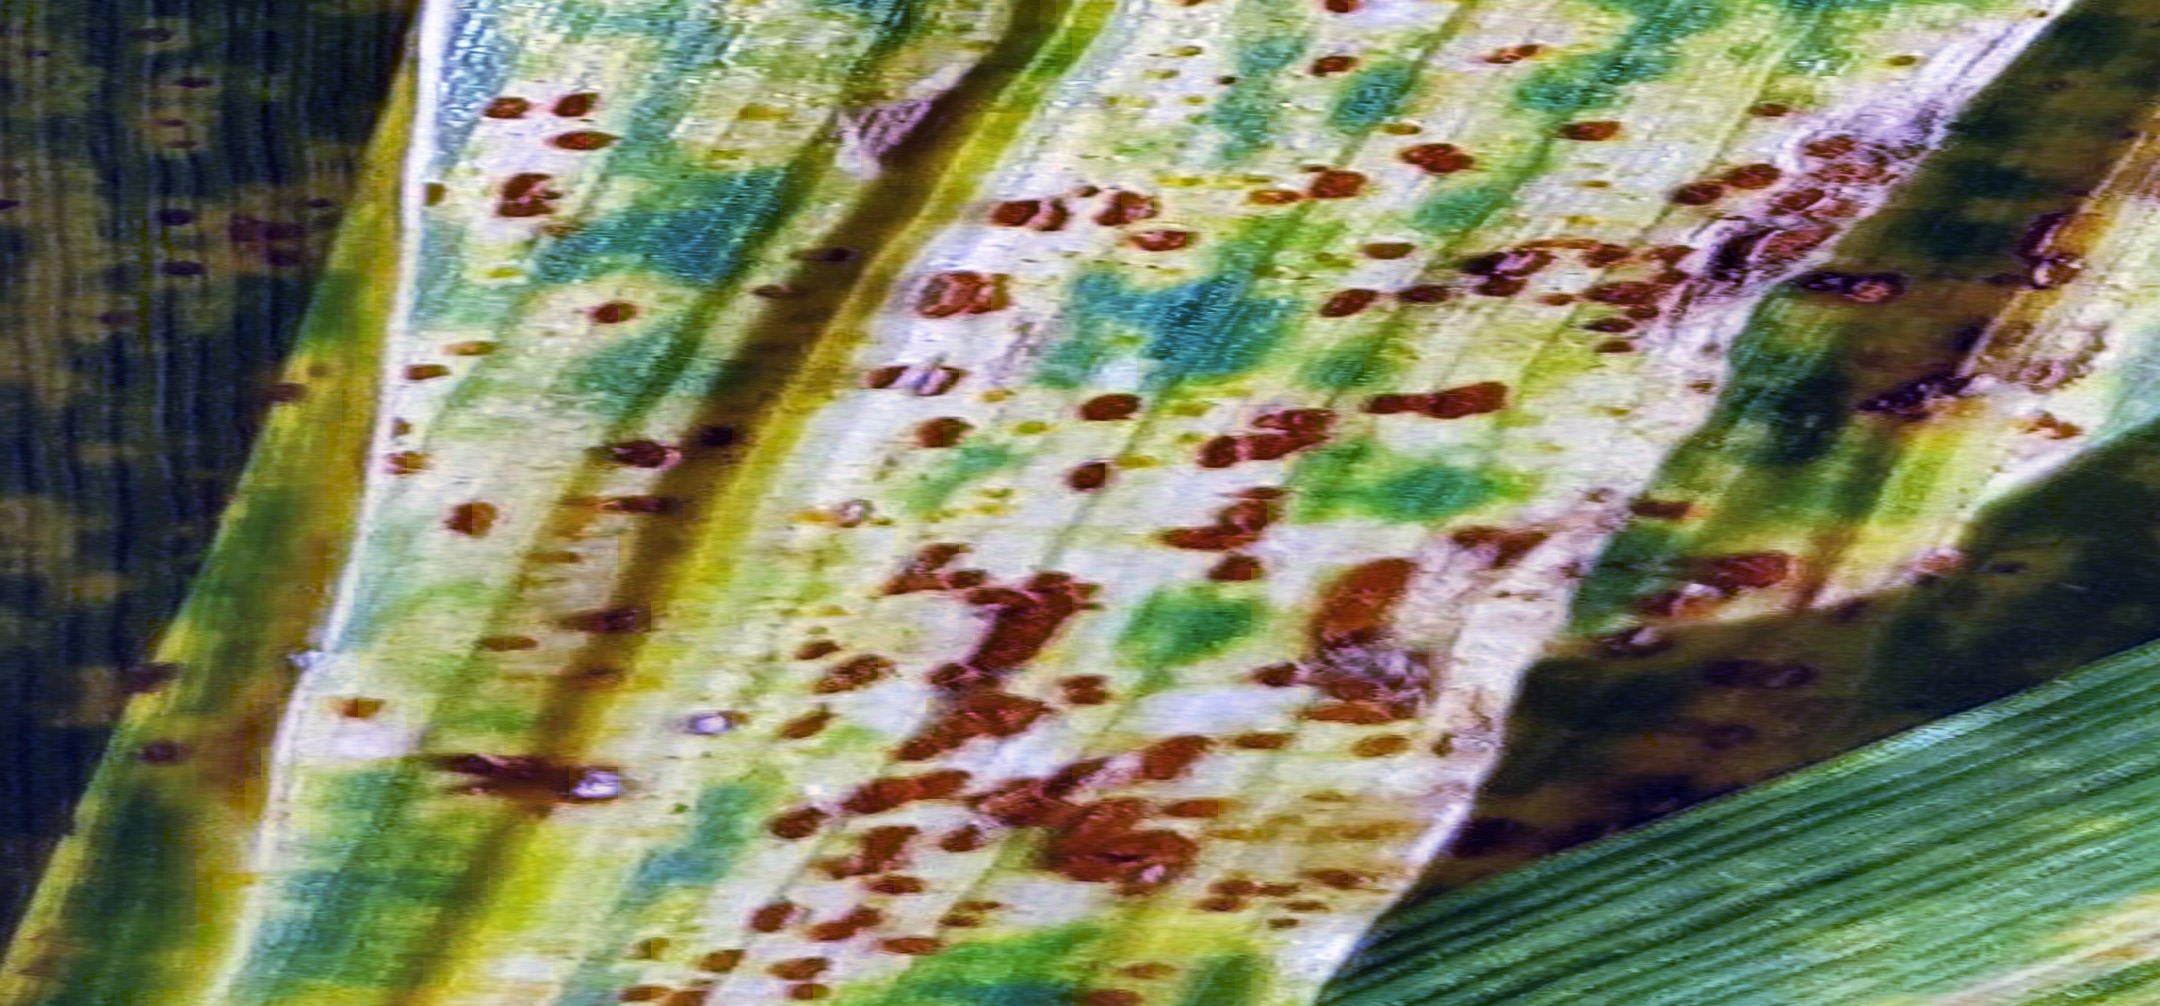Leaf Rust: (523, 94, 1905, 994)
